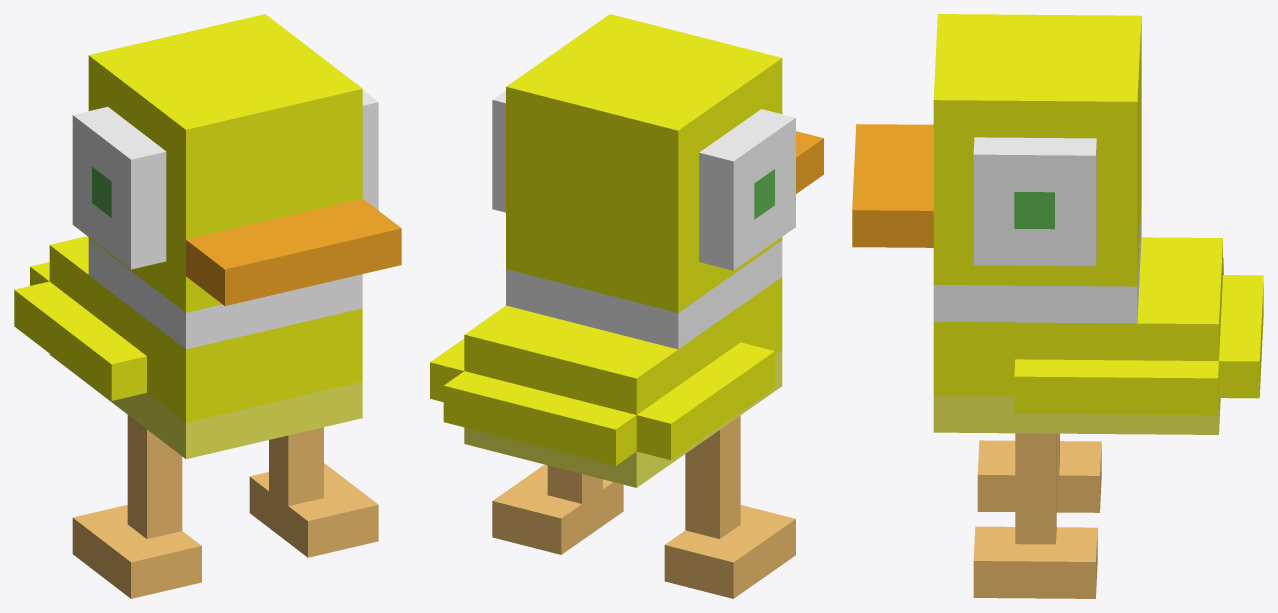
The model's file is duck2.glb.
The picture shows the model from 3 angles, left to right: view 1: azimuth 30°, elevation 25°; view 2: azimuth 150°, elevation 25°; view 3: azimuth 270°, elevation 25°; orthographic projection.
Parts seen in each view (by area): view 1: imagetostl_mesh0; view 2: imagetostl_mesh0; view 3: imagetostl_mesh0.
Part boxes in pixels (x1,y1,x2,y2): imagetostl_mesh0: (14,14,401,598); imagetostl_mesh0: (430,14,823,598); imagetostl_mesh0: (852,14,1263,598).
Size of the model in its own units: 21.36 by 39 by 30.29.
